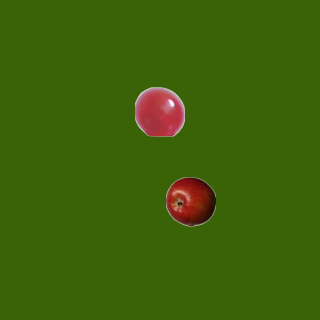Apple Braeburn: (165, 176, 215, 226)
Redcurrant: (134, 86, 184, 136)
